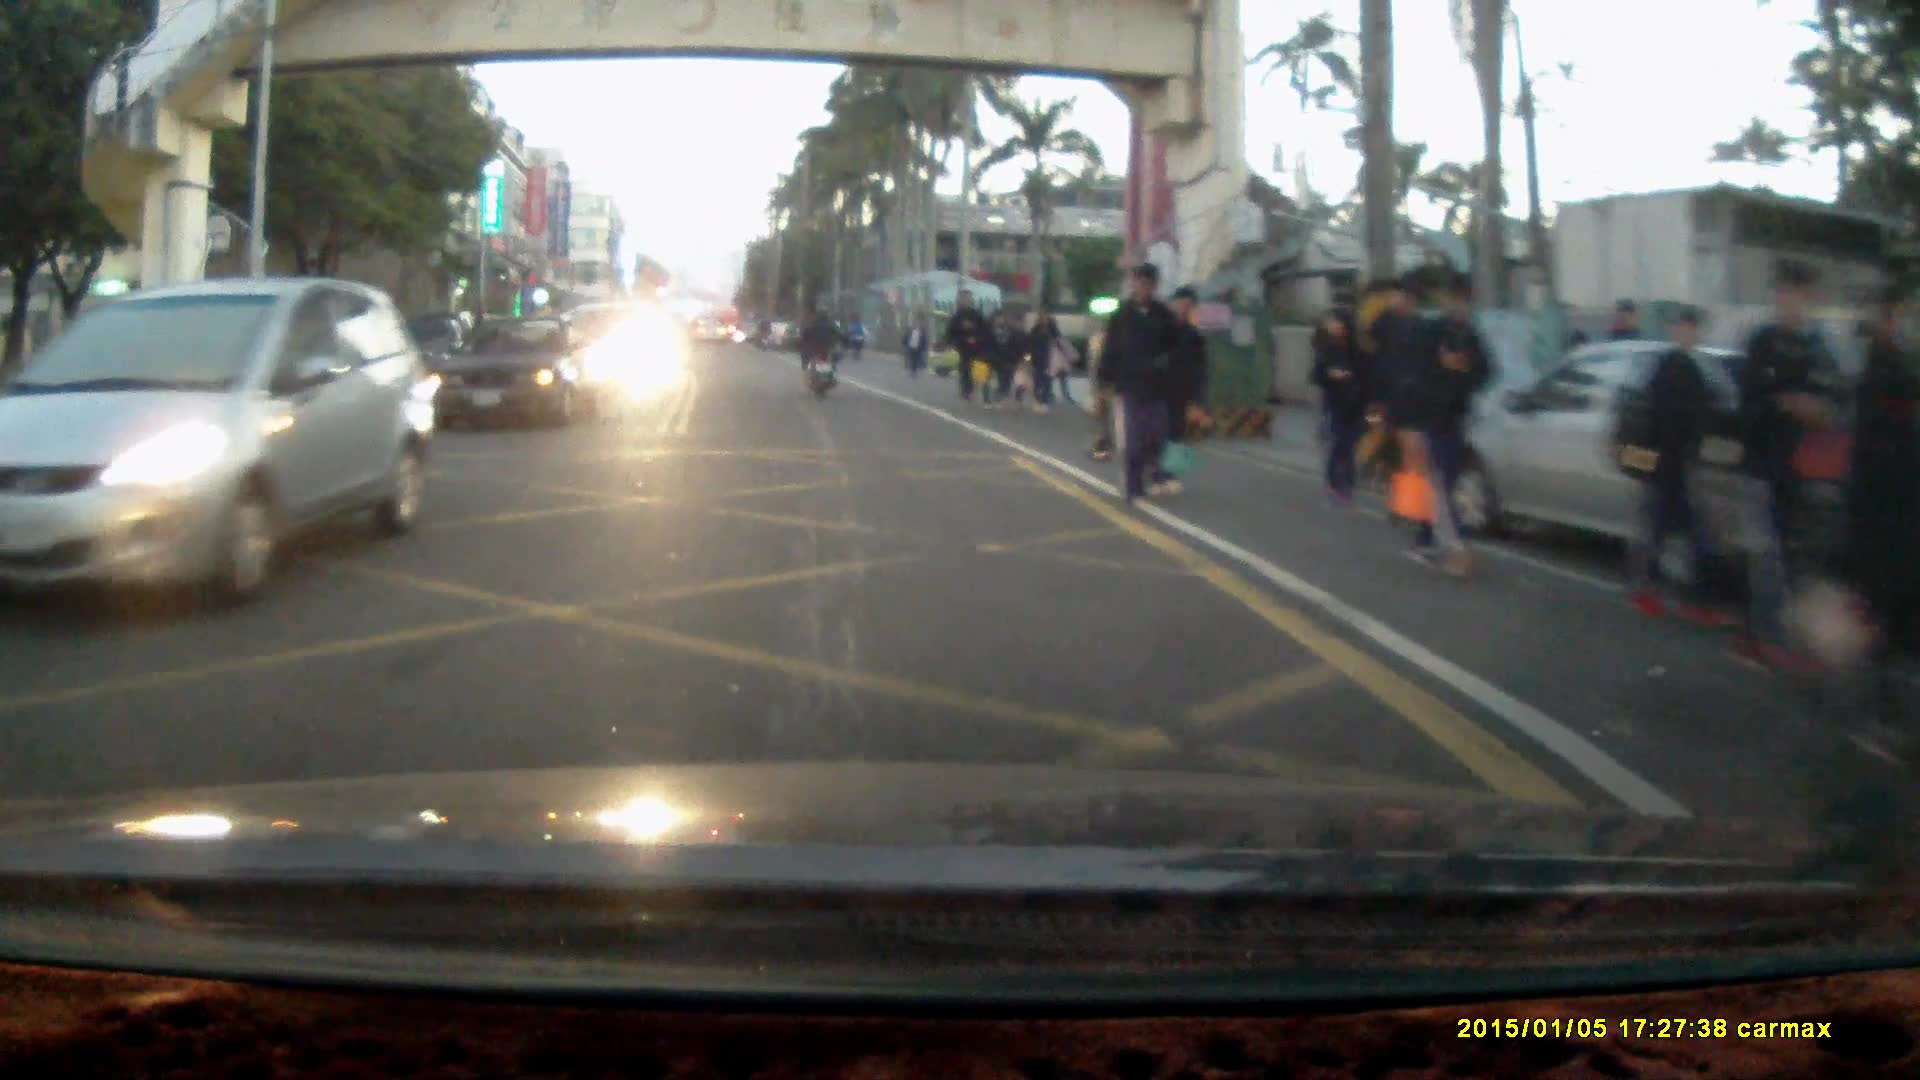pedestrian: (1728, 261, 1845, 683), (1826, 286, 1920, 767), (1626, 302, 1745, 642), (1404, 262, 1499, 579), (1093, 255, 1181, 502), (1362, 274, 1432, 519), (1147, 279, 1213, 481), (1309, 304, 1368, 511), (1025, 305, 1067, 417), (947, 284, 985, 402), (978, 302, 1018, 404), (901, 310, 928, 378)
rider: (799, 304, 842, 401)
vehicle: (1, 275, 434, 621), (1437, 331, 1866, 614), (433, 312, 604, 430)
